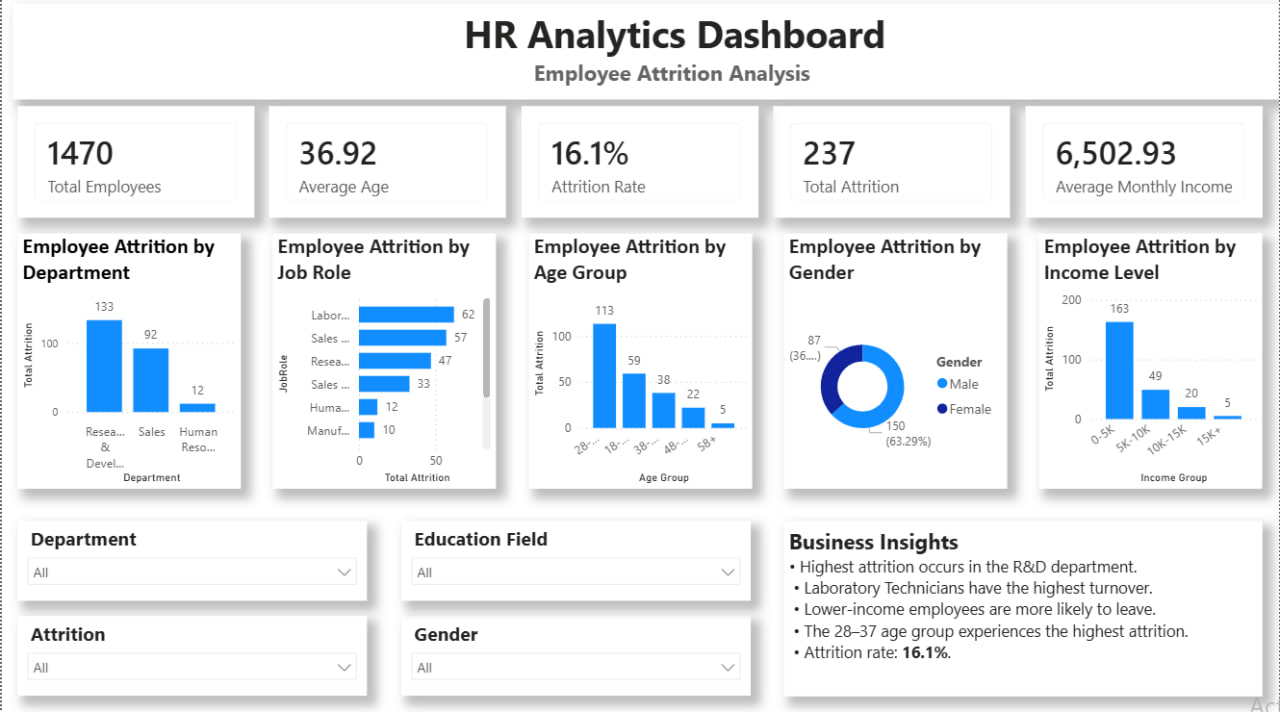

Layout of this report page (visuals, bound fields, positions):
{"tool":"powerbi","page":{"name":"Page 1","canvas":[1280,720],"ordinal":0},"visuals":[{"type":"textbox","box":[11,9.6,1269.3,96.1],"z":0},{"type":"cardVisual","fields":{"Data":["WA_Fn-UseC_-HR-Employee-Attrition.Total Employees"]},"box":[16,112,237.6,112],"z":0,"group":"g1"},{"type":"group","id":"g1","title":"Group 1","box":[16,112,1248,112],"z":1000},{"type":"cardVisual","fields":{"Data":["WA_Fn-UseC_-HR-Employee-Attrition.Total Attrition"]},"box":[773.8,112,237.6,112],"z":1000,"group":"g1"},{"type":"cardVisual","fields":{"Data":["WA_Fn-UseC_-HR-Employee-Attrition.Average Monthly Income"]},"box":[1026.4,112,237.6,112],"z":2000,"group":"g1"},{"type":"clusteredColumnChart","title":"Employee Attrition by Department","fields":{"Category":["WA_Fn-UseC_-HR-Employee-Attrition.Department"],"Y":["WA_Fn-UseC_-HR-Employee-Attrition.Total Attrition"]},"box":[16,240,224,256],"z":2000},{"type":"cardVisual","fields":{"Data":["WA_Fn-UseC_-HR-Employee-Attrition.Average Age"]},"box":[268.6,112,237.6,112],"z":3000,"group":"g1"},{"type":"clusteredBarChart","title":"Employee Attrition by Job Role","fields":{"Category":["WA_Fn-UseC_-HR-Employee-Attrition.JobRole"],"Y":["WA_Fn-UseC_-HR-Employee-Attrition.Total Attrition"]},"box":[272,240,224,256],"z":3000},{"type":"cardVisual","fields":{"Data":["WA_Fn-UseC_-HR-Employee-Attrition.Attrition Rate"]},"box":[521.2,112,237.6,112],"z":4000,"group":"g1"},{"type":"clusteredColumnChart","title":"Employee Attrition by Age Group","fields":{"Y":["WA_Fn-UseC_-HR-Employee-Attrition.Total Attrition"],"Category":["WA_Fn-UseC_-HR-Employee-Attrition.Age Group"]},"box":[528,240,224,256],"z":4000},{"type":"donutChart","title":"Employee Attrition by Gender","fields":{"Category":["WA_Fn-UseC_-HR-Employee-Attrition.Gender"],"Y":["WA_Fn-UseC_-HR-Employee-Attrition.Total Attrition"]},"box":[784,240,224,256],"z":5000},{"type":"clusteredColumnChart","title":"Employee Attrition by Income Level","fields":{"Category":["WA_Fn-UseC_-HR-Employee-Attrition.Income Group"],"Y":["WA_Fn-UseC_-HR-Employee-Attrition.Total Attrition"]},"box":[1040,240,224,256],"z":6000},{"type":"slicer","fields":{"Values":["WA_Fn-UseC_-HR-Employee-Attrition.Department"]},"box":[16,528,350,80],"z":7000},{"type":"slicer","fields":{"Values":["WA_Fn-UseC_-HR-Employee-Attrition.Gender"]},"box":[400,624,350,80],"z":8000},{"type":"slicer","fields":{"Values":["WA_Fn-UseC_-HR-Employee-Attrition.EducationField"]},"box":[400,528,350,80],"z":9000},{"type":"slicer","fields":{"Values":["WA_Fn-UseC_-HR-Employee-Attrition.Attrition"]},"box":[16,624,350,80],"z":10000},{"type":"textbox","box":[784,528,480,176],"z":11000}]}

Visuals, with their boxes in screenshot pixels (x1, y1, x2, y2), scaled from the page's 1280x720 canvas onto the 1280x712 screenshot:
textbox: BBox(11, 9, 1279, 105)
cardVisual - WA_Fn-UseC_-HR-Employee-Attrition.Total Employees: BBox(16, 111, 254, 222)
"Group 1" group: BBox(16, 111, 1264, 222)
cardVisual - WA_Fn-UseC_-HR-Employee-Attrition.Total Attrition: BBox(774, 111, 1011, 222)
cardVisual - WA_Fn-UseC_-HR-Employee-Attrition.Average Monthly Income: BBox(1026, 111, 1264, 222)
"Employee Attrition by Department" clusteredColumnChart: BBox(16, 237, 240, 490)
cardVisual - WA_Fn-UseC_-HR-Employee-Attrition.Average Age: BBox(269, 111, 506, 222)
"Employee Attrition by Job Role" clusteredBarChart: BBox(272, 237, 496, 490)
cardVisual - WA_Fn-UseC_-HR-Employee-Attrition.Attrition Rate: BBox(521, 111, 759, 222)
"Employee Attrition by Age Group" clusteredColumnChart: BBox(528, 237, 752, 490)
"Employee Attrition by Gender" donutChart: BBox(784, 237, 1008, 490)
"Employee Attrition by Income Level" clusteredColumnChart: BBox(1040, 237, 1264, 490)
slicer - WA_Fn-UseC_-HR-Employee-Attrition.Department: BBox(16, 522, 366, 601)
slicer - WA_Fn-UseC_-HR-Employee-Attrition.Gender: BBox(400, 617, 750, 696)
slicer - WA_Fn-UseC_-HR-Employee-Attrition.EducationField: BBox(400, 522, 750, 601)
slicer - WA_Fn-UseC_-HR-Employee-Attrition.Attrition: BBox(16, 617, 366, 696)
textbox: BBox(784, 522, 1264, 696)
